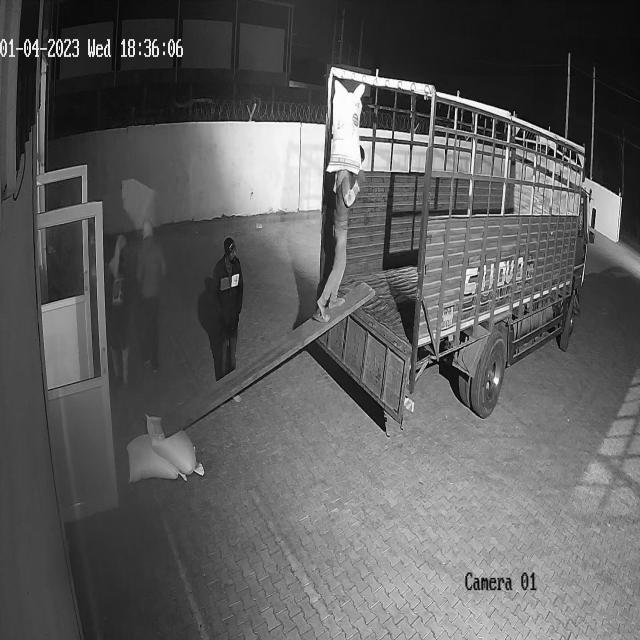sack: (326, 79, 366, 175), (144, 412, 204, 475), (126, 434, 186, 482)
